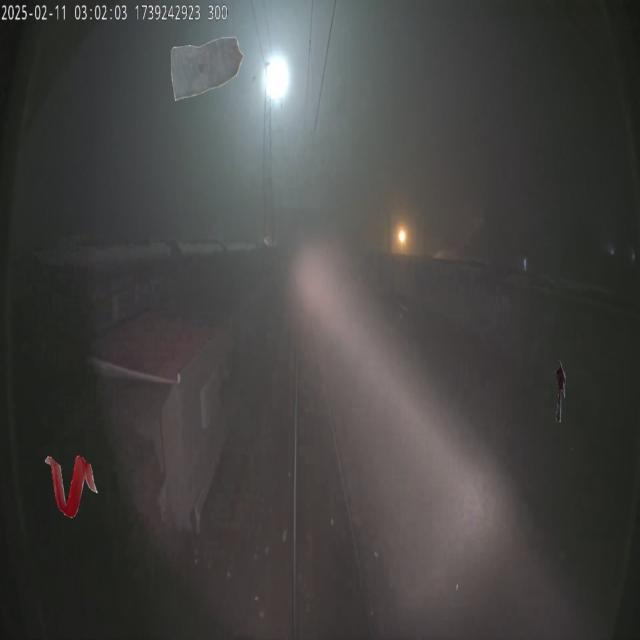floating object: (167, 36, 247, 100), (45, 454, 98, 518), (555, 358, 565, 422)
